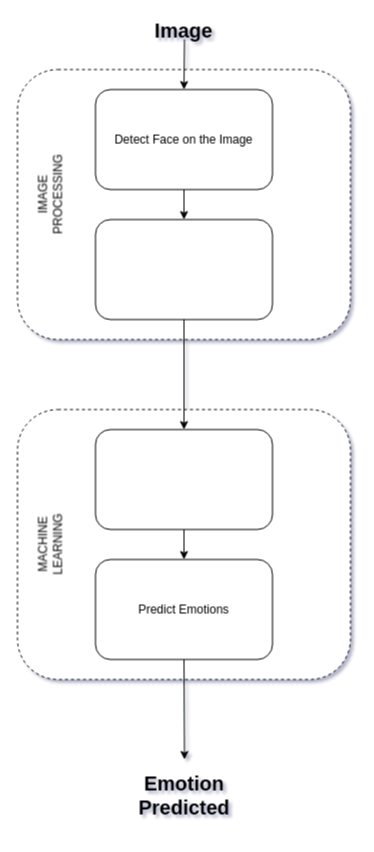
Some shapes in this 374 by 852 pixel diagram are drawn without their labels. Here are the shapes that lost their labels. From the top down, the centre of each, then its label:
At point 183,269: "Extract Features from the Face".
At point 183,479: "Extract the most important Features".
